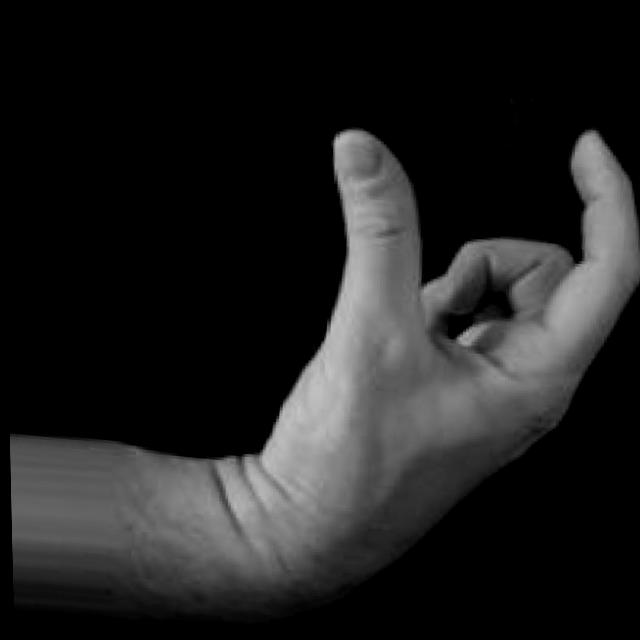U: (243, 90, 640, 600)
